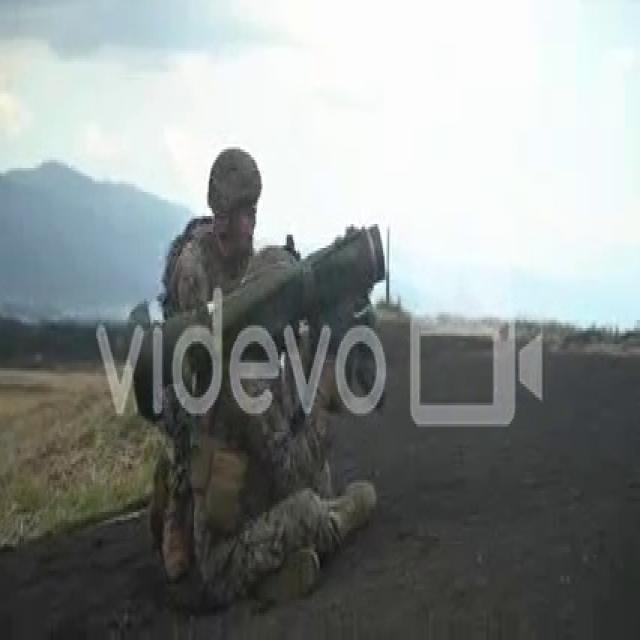bazooka: (127, 222, 391, 421)
